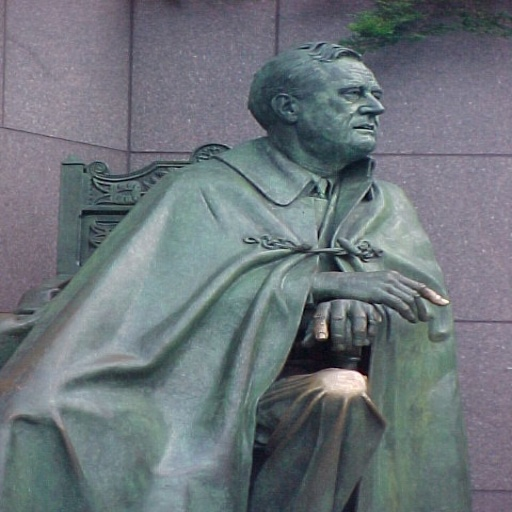hand: (318, 257, 451, 324), (312, 294, 384, 353)
